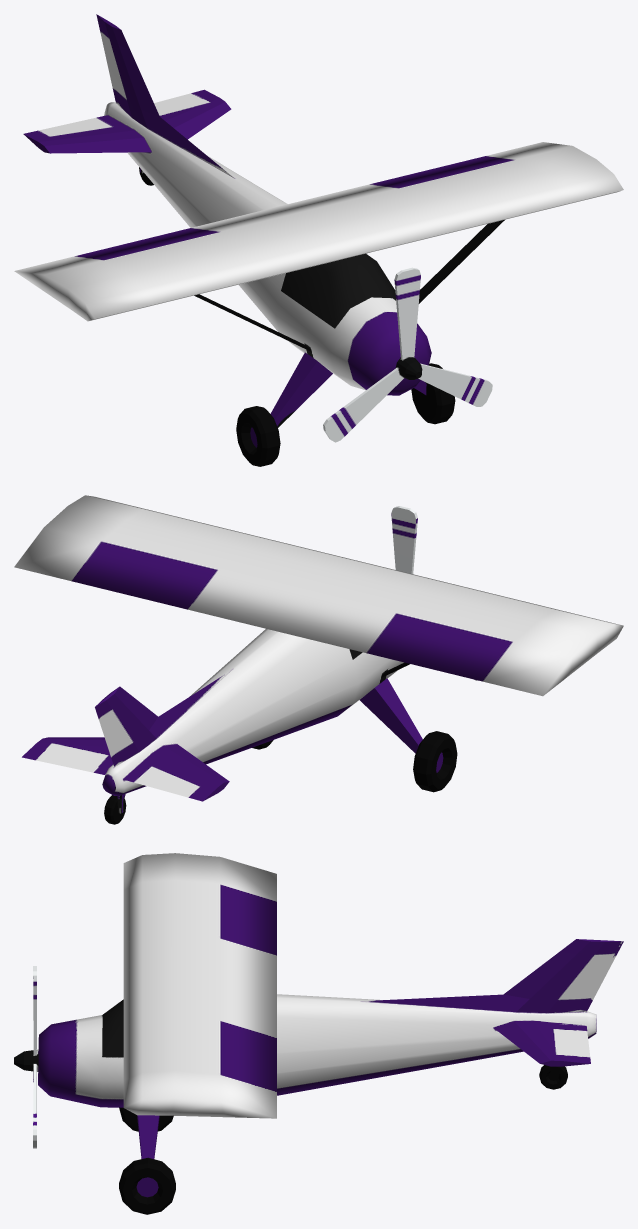
The model's file is kit-light-plane.glb.
3 renders of one model, top to bottom at view 1: azimuth 30°, elevation 25°; view 2: azimuth 150°, elevation 25°; view 3: azimuth 270°, elevation 25°, orthographic. The views are drawn at different scales.
Parts seen in each view (by area): view 1: basicPlaneBody, basicPlaneProp; view 2: basicPlaneBody, basicPlaneProp; view 3: basicPlaneBody, basicPlaneProp.
Boxes of the visible parts, left/top/right/bottom form: basicPlaneBody: left=14, top=14, right=623, bottom=466; basicPlaneProp: left=323, top=267, right=492, bottom=442; basicPlaneBody: left=14, top=495, right=623, bottom=824; basicPlaneProp: left=391, top=506, right=477, bottom=680; basicPlaneBody: left=38, top=853, right=623, bottom=1214; basicPlaneProp: left=14, top=966, right=38, bottom=1148.
Bounding box in the file's own units: 2.71 × 1.21 × 2.86.
Materials: 2 (1 with a texture image).
